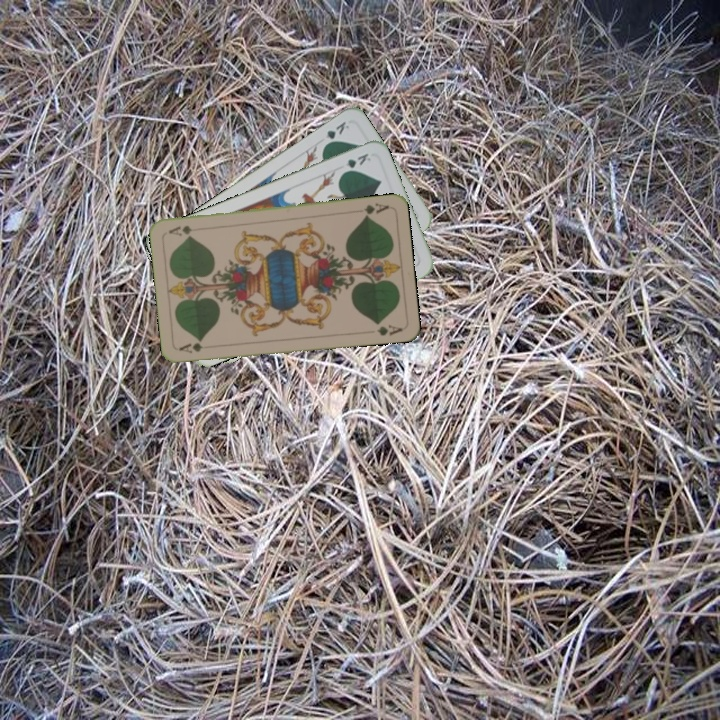GA: (360, 199, 392, 220), (175, 339, 205, 356)
GK: (319, 117, 352, 149), (337, 149, 373, 176)
